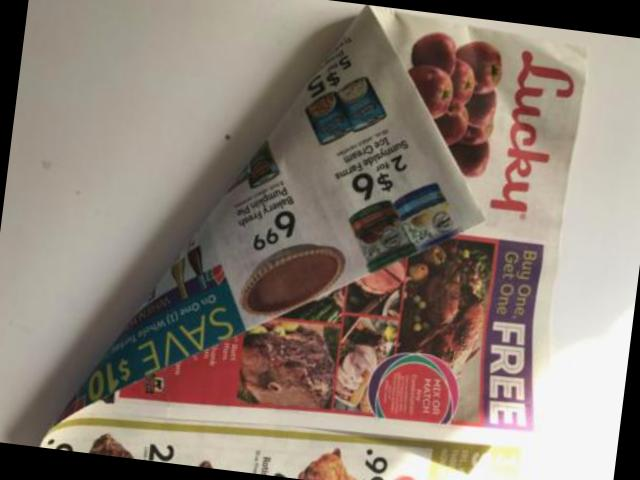cardboard paper: (41, 8, 585, 480)
